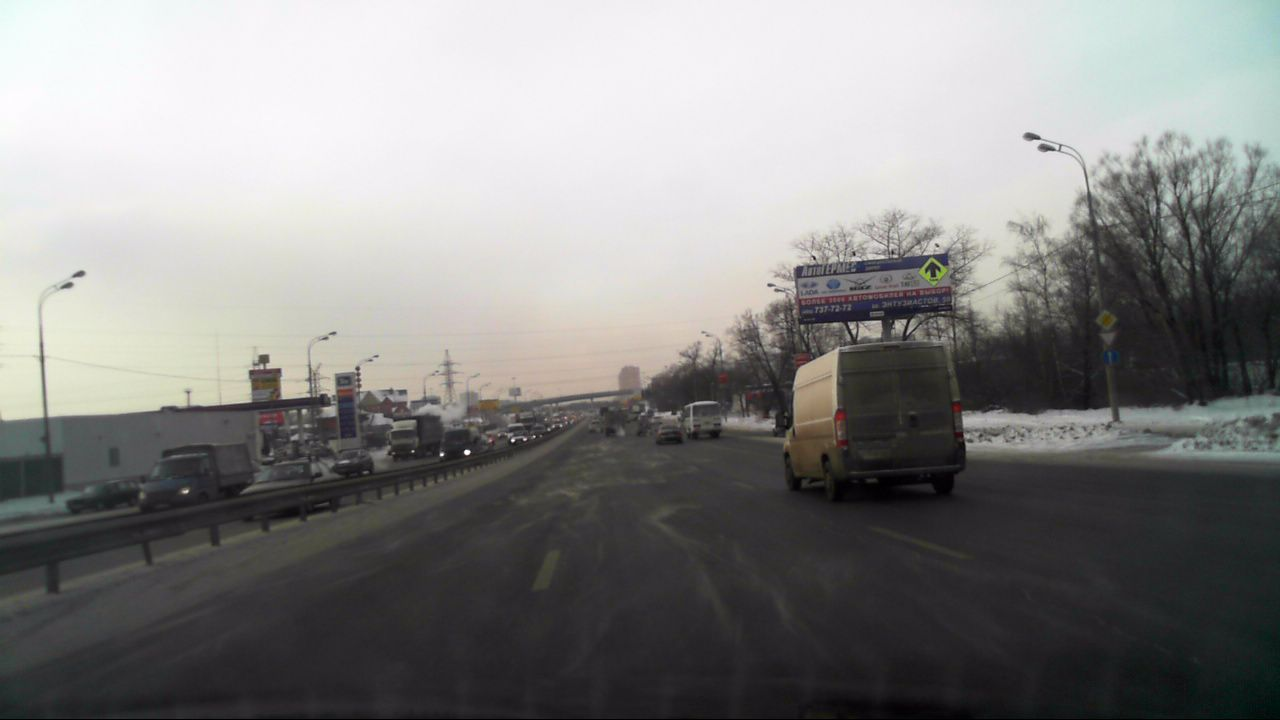main road: (1097, 309, 1116, 329)
